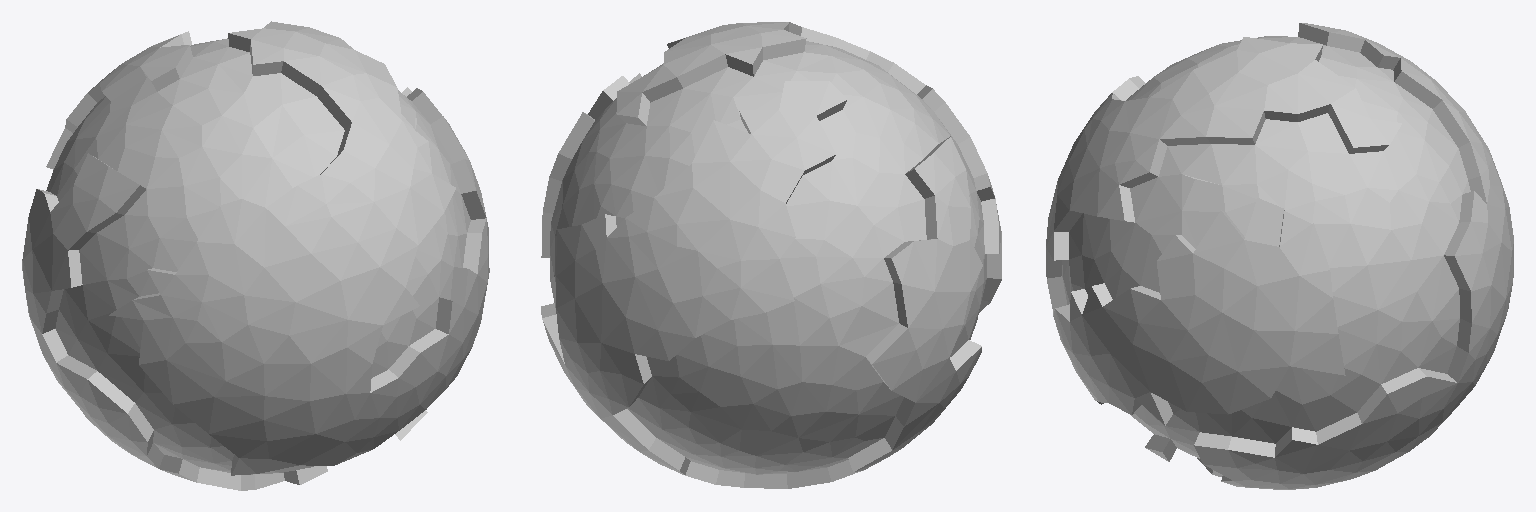
Rendered from planetE.obj.
3 views of the same model, side by side, from view 1: azimuth 30°, elevation 25°; view 2: azimuth 150°, elevation 25°; view 3: azimuth 270°, elevation 25° (orthographic).
Visible parts, largest first — view 1: Planet_5_Cube.004; view 2: Planet_5_Cube.004; view 3: Planet_5_Cube.004.
Part boxes in pixels (x1,y1,x2,y2): Planet_5_Cube.004: (22, 21, 489, 490); Planet_5_Cube.004: (541, 22, 1001, 488); Planet_5_Cube.004: (1046, 23, 1513, 489).
Bounding box in the file's own units: 2.03 × 2.03 × 2.03.